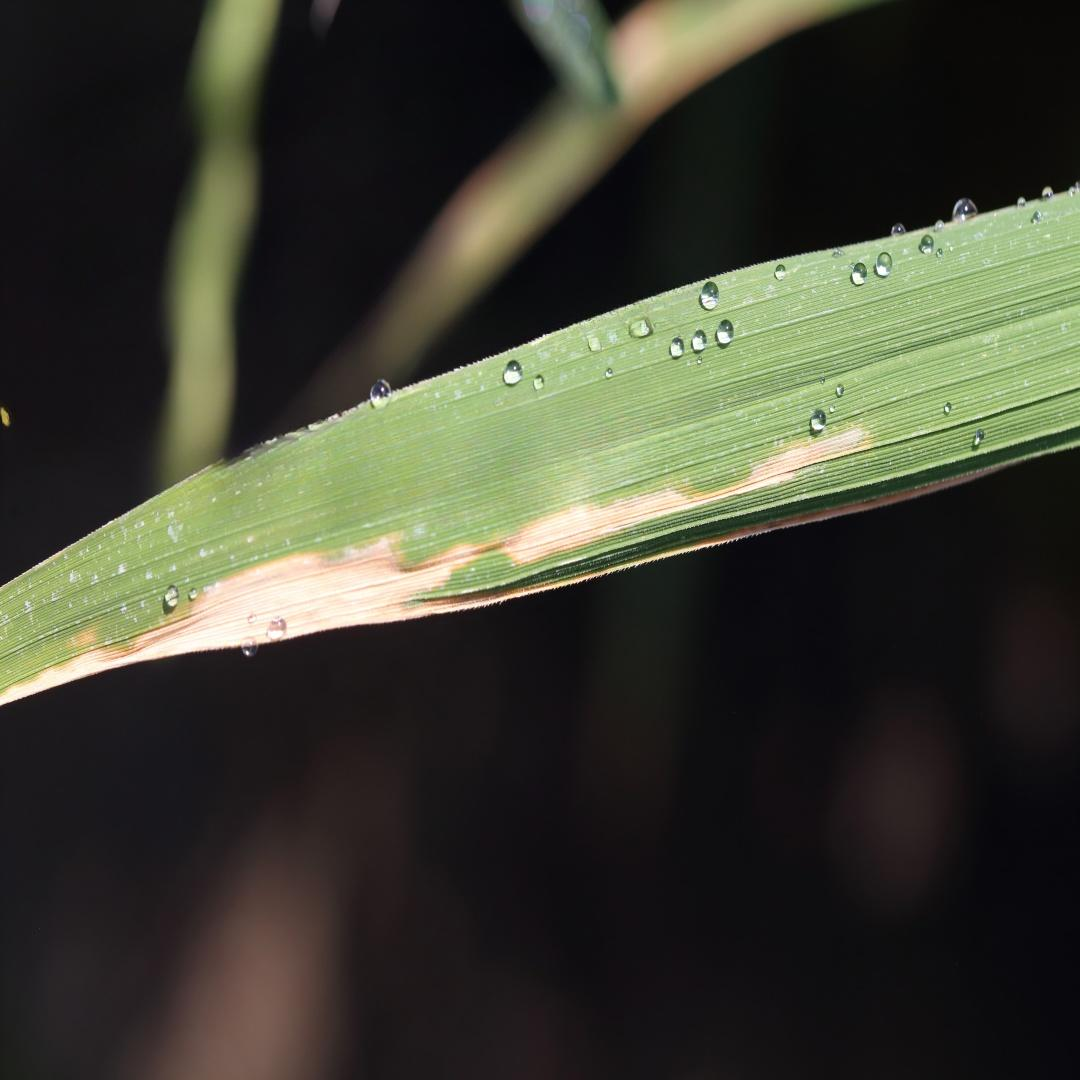BLB: (0, 528, 606, 705), (694, 465, 1002, 548), (497, 483, 719, 567), (716, 422, 874, 500)
LEAF: (0, 191, 1079, 706)
